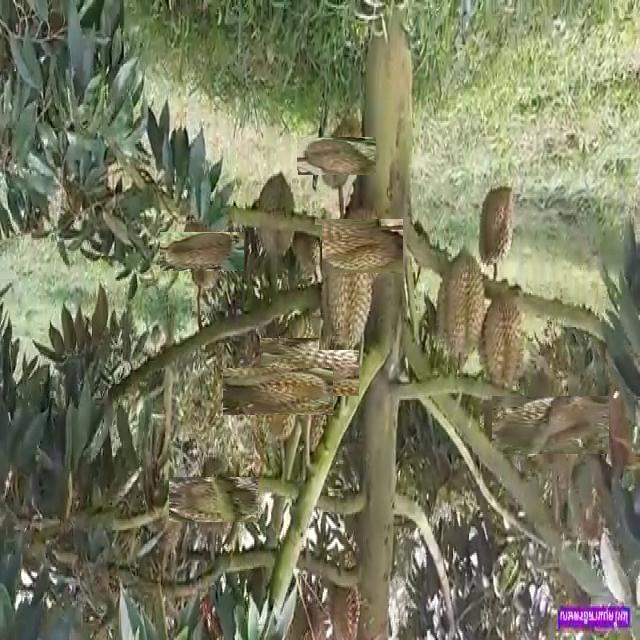durian: (506, 381, 594, 469), (319, 223, 374, 350), (269, 328, 349, 407), (238, 352, 317, 431), (435, 247, 487, 367), (474, 290, 528, 397), (324, 210, 395, 282), (180, 466, 247, 533), (253, 170, 298, 259), (171, 221, 233, 283), (475, 183, 517, 269), (307, 127, 366, 186), (286, 225, 322, 280)
